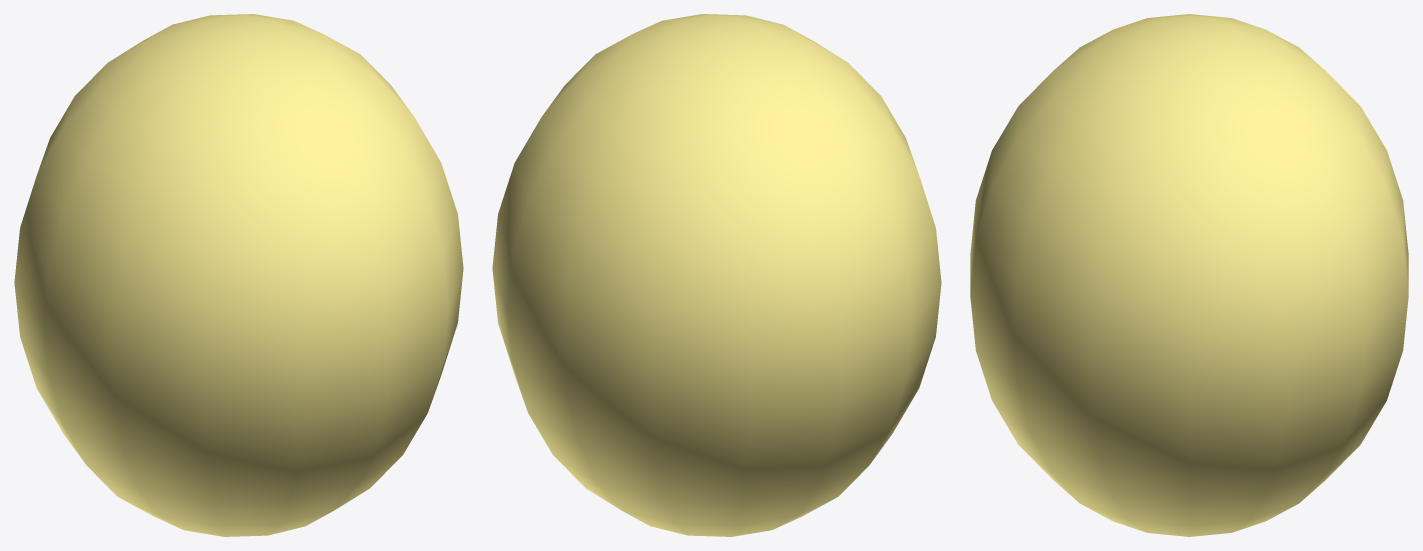
Rendered from Caudalume_stage3.obj.
3 views of the same model, side by side, from view 1: azimuth 30°, elevation 25°; view 2: azimuth 150°, elevation 25°; view 3: azimuth 270°, elevation 25° (orthographic).
Bounding box in the file's own units: 2.6 × 3.12 × 2.53.
